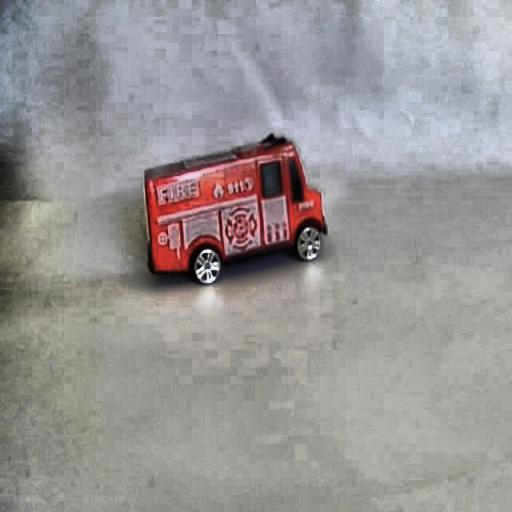fire_truck: (135, 130, 330, 295)
